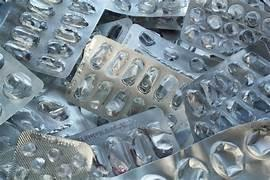pill_Strip: (67, 35, 190, 131), (110, 116, 269, 179), (183, 47, 269, 140), (4, 0, 103, 77), (71, 108, 178, 169), (181, 0, 269, 57), (123, 24, 214, 78), (9, 84, 95, 136), (8, 131, 93, 178), (0, 47, 42, 123), (104, 0, 187, 16), (96, 18, 132, 42), (0, 121, 20, 161), (132, 16, 182, 31), (0, 147, 14, 177)
